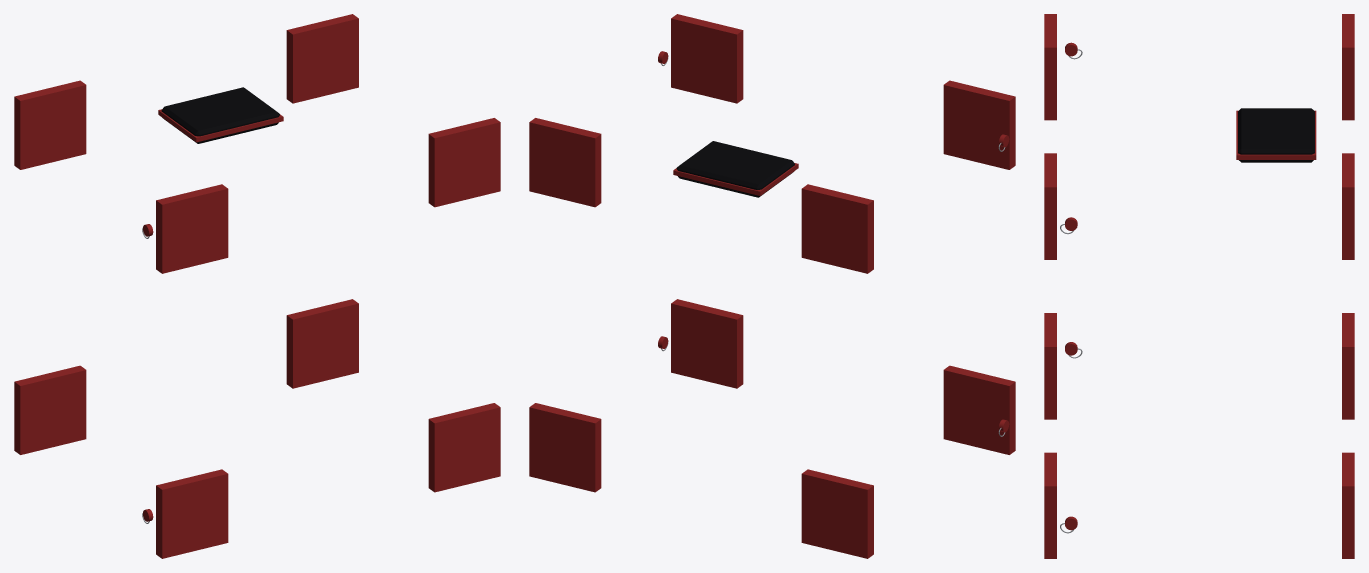
File: z1_seal.obj
The picture shows the model from 3 angles, left to right: view 1: azimuth 30°, elevation 25°; view 2: azimuth 150°, elevation 25°; view 3: azimuth 270°, elevation 25°; orthographic projection. The views are drawn at different scales.
Parts seen in each view (by area): view 1: z1_seal; view 2: z1_seal; view 3: z1_seal.
Part boxes in pixels (left/top/right/bottom): z1_seal: left=14, top=14, right=500, bottom=558; z1_seal: left=529, top=14, right=1015, bottom=558; z1_seal: left=1044, top=14, right=1354, bottom=558.
Size of the model in its own units: 1.63 by 1.6 by 1.21.
